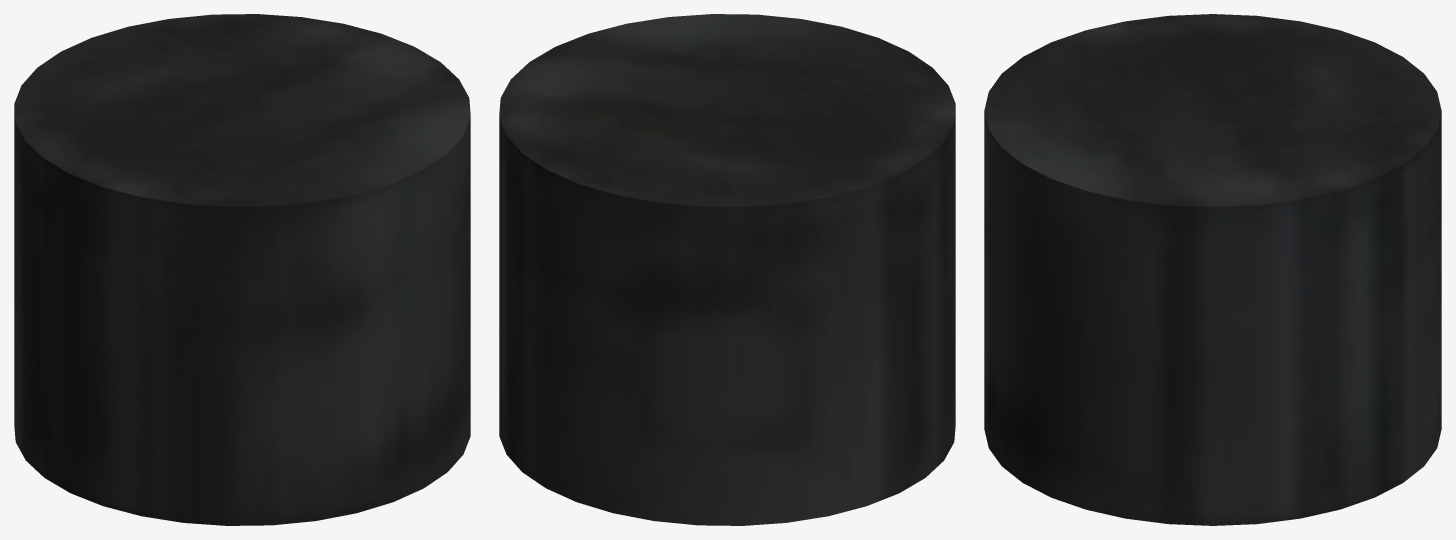
Rendered from backrest__selector_boss_0.glb.
3 renders of one model, left to right at view 1: azimuth 30°, elevation 25°; view 2: azimuth 150°, elevation 25°; view 3: azimuth 270°, elevation 25°, orthographic.
Visible parts, largest first — view 1: world; view 2: world; view 3: world.
Part boxes in pixels (box(x1,y1,x2,y2)): world: box(14, 14, 470, 525); world: box(499, 14, 955, 525); world: box(984, 14, 1441, 525).
Size of the model in its own units: 0.026 by 0.02 by 0.026.
1 material, 1 textured.
